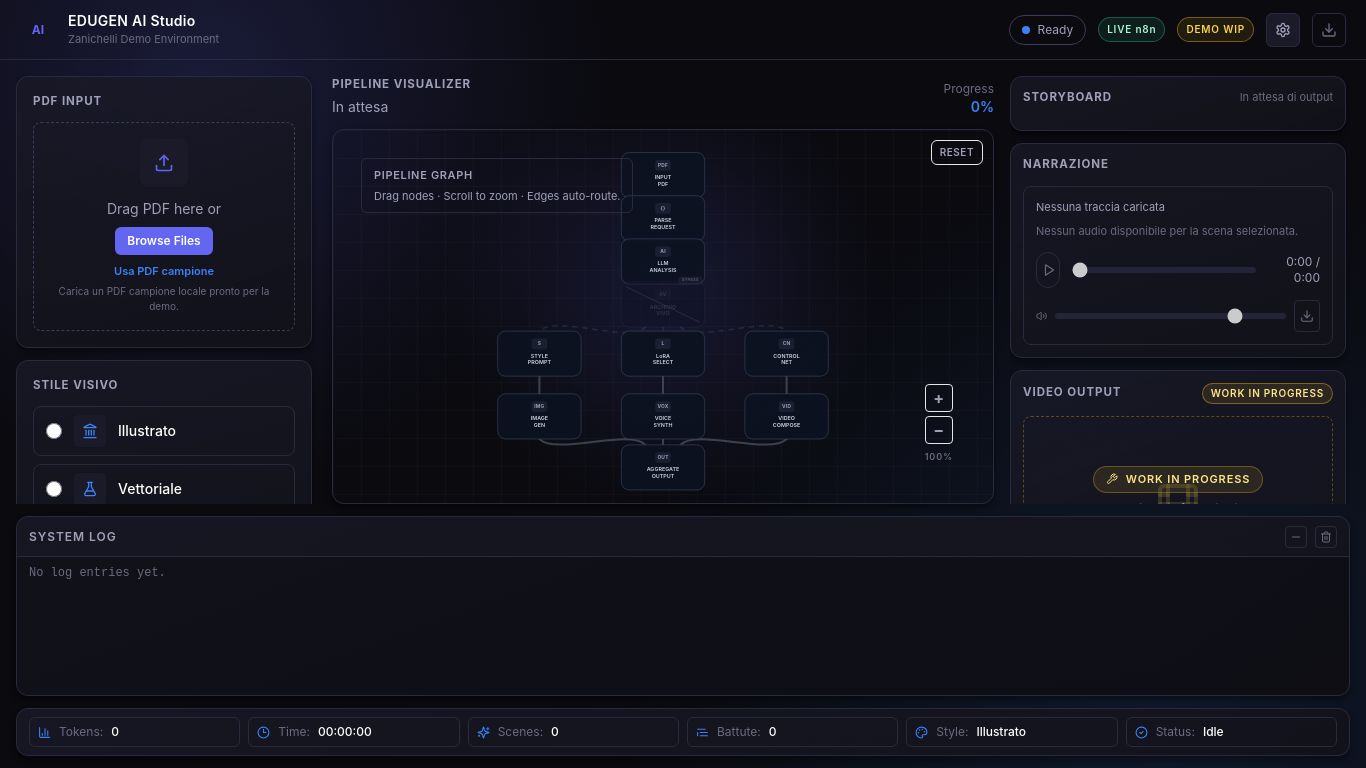
Test: App failure and degraded paths › ignores duplicate generate clicks while a request is in flight
Click the button "Usa PDF campione" at (164, 272), box [114,263,214,280]
(page scrolled)
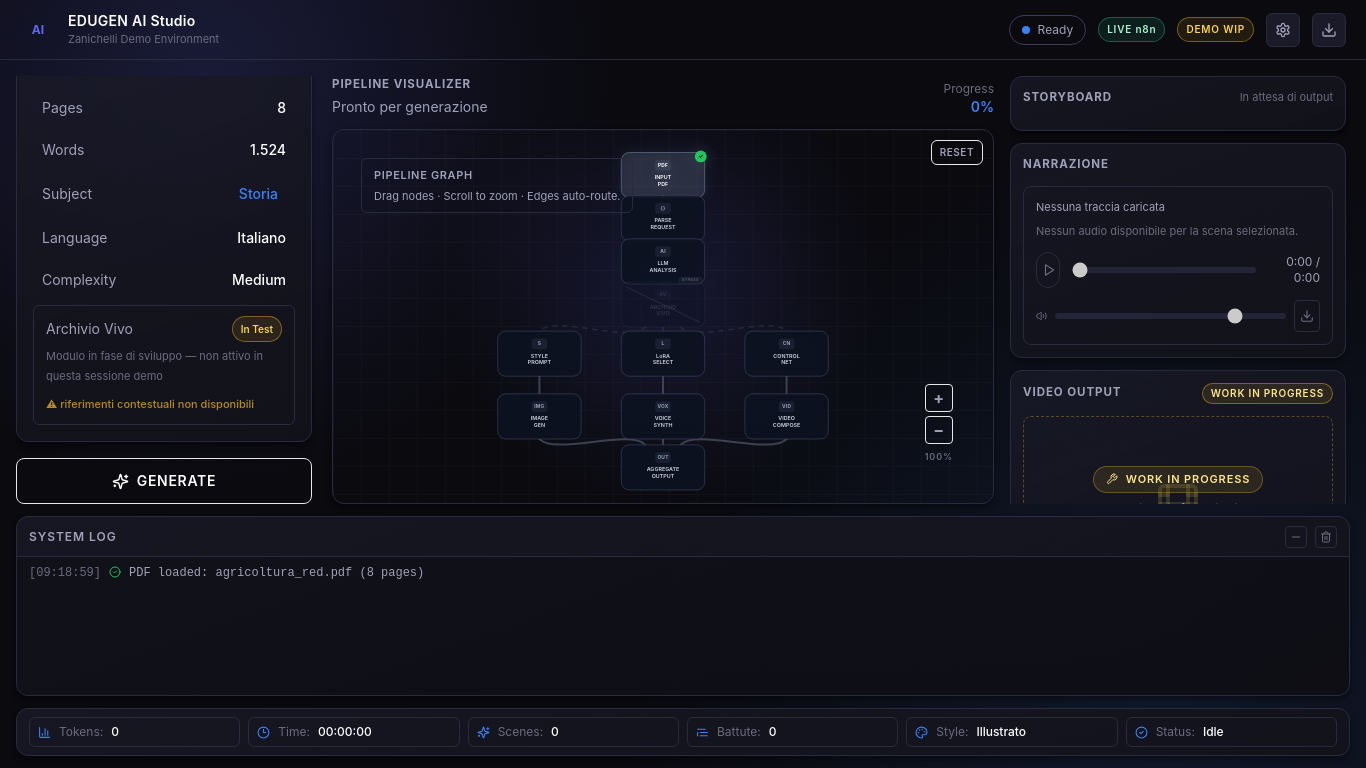
Click the button "GENERATE" at (164, 481), box [16,458,312,504]
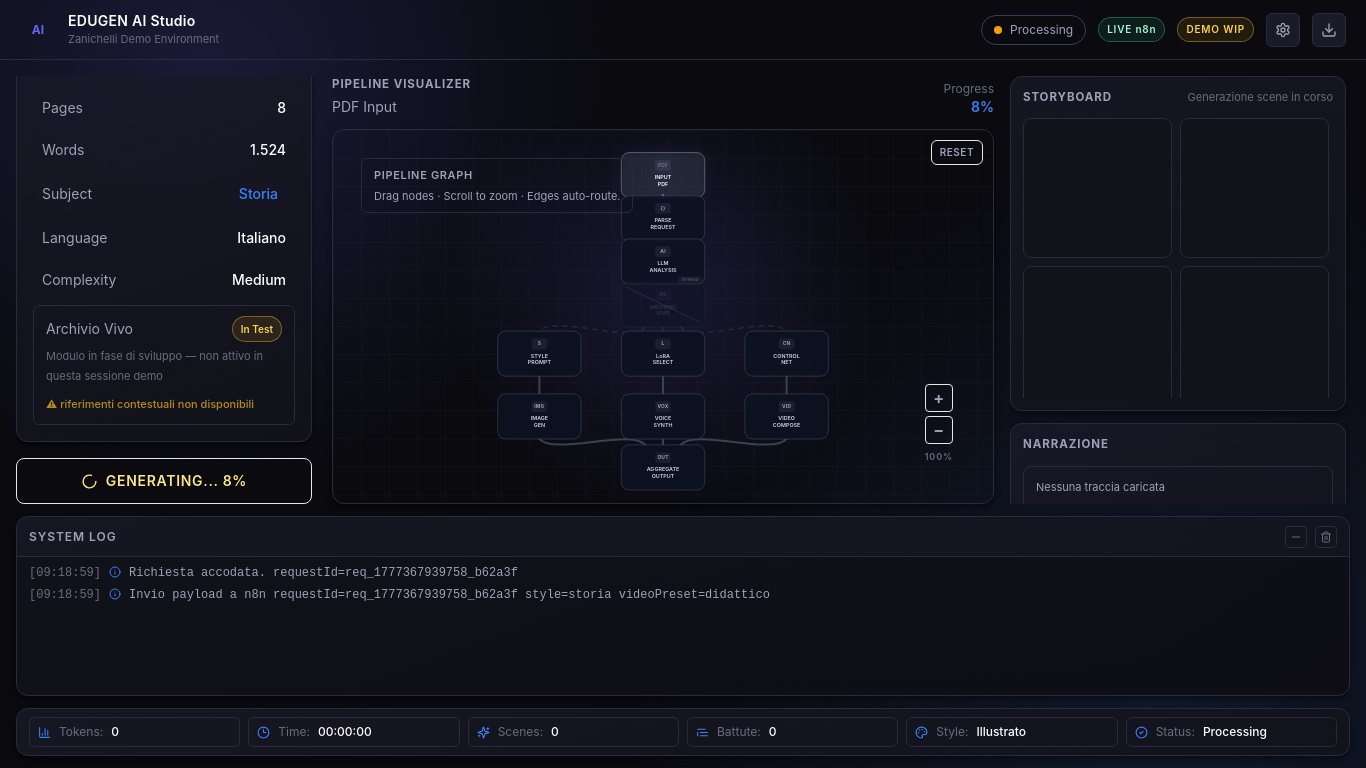
Click the button named "generate" at (164, 481), box [16,458,312,504]
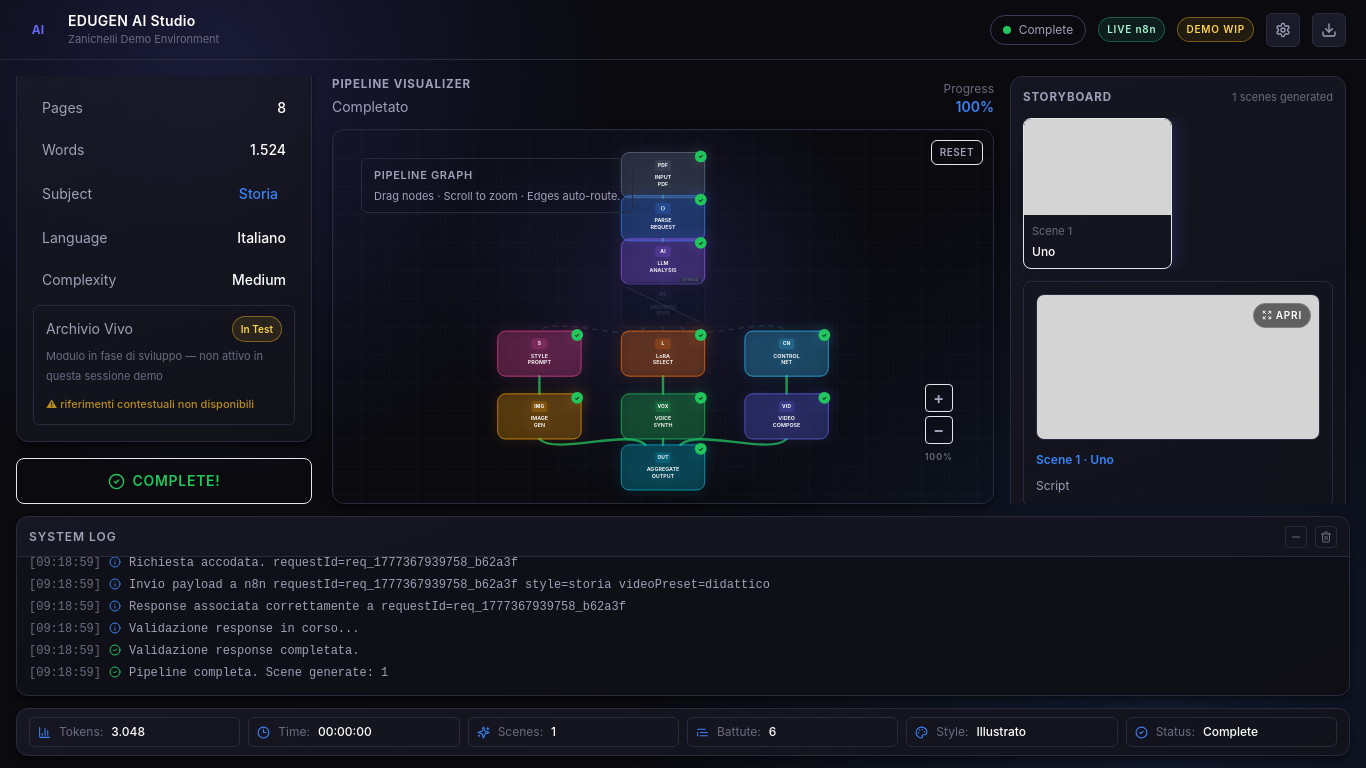
Now the text "1 scenes generated" is shown, box [1232,89,1333,106]
